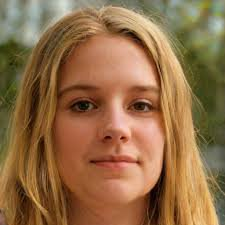noMask: (26, 10, 194, 204)
